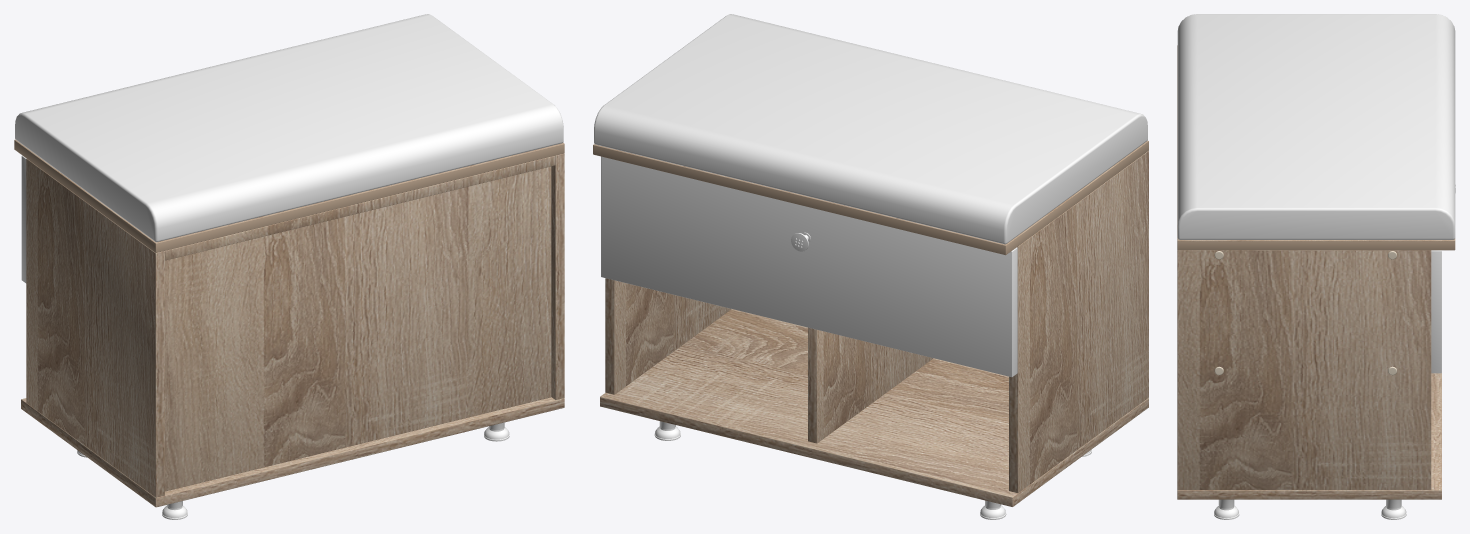
File: tumba_room.glb
3 renders of one model, left to right at view 1: azimuth 30°, elevation 25°; view 2: azimuth 150°, elevation 25°; view 3: azimuth 270°, elevation 25°, orthographic. The views are drawn at different scales.
Visible parts, largest first — view 1: 1_sonoma.1_0, puf_1, 15_sonoma.1_0, 14_sonoma.2_0, 16_sonoma_0, 12_sonoma.1_0, 13_sonoma.3_0, 9_white_0; view 2: puf_1, 9_white_0, 14_sonoma.2_0, 15_sonoma.1_0, 13_sonoma.3_0, 8_sonoma.7_0, 16_sonoma_0; view 3: puf_1, 13_sonoma.3_0, 14_sonoma.2_0, 16_sonoma_0, 9_white_0, leg_1, leg.
Part boxes in pixels (left/top/right/bottom): 1_sonoma.1_0: left=165, top=166, right=551, bottom=491; puf_1: left=15, top=14, right=563, bottom=242; 15_sonoma.1_0: left=26, top=158, right=164, bottom=497; 14_sonoma.2_0: left=21, top=397, right=564, bottom=507; 16_sonoma_0: left=14, top=139, right=564, bottom=252; 12_sonoma.1_0: left=165, top=156, right=555, bottom=260; 13_sonoma.3_0: left=551, top=153, right=564, bottom=399; 9_white_0: left=21, top=155, right=26, bottom=283; puf_1: left=594, top=14, right=1147, bottom=244; 9_white_0: left=601, top=156, right=1017, bottom=377; 14_sonoma.2_0: left=600, top=309, right=1148, bottom=506; 15_sonoma.1_0: left=1009, top=151, right=1148, bottom=493; 13_sonoma.3_0: left=605, top=278, right=731, bottom=394; 8_sonoma.7_0: left=808, top=327, right=933, bottom=443; 16_sonoma_0: left=593, top=140, right=1148, bottom=255; puf_1: left=1177, top=14, right=1455, bottom=239; 13_sonoma.3_0: left=1177, top=250, right=1431, bottom=489; 14_sonoma.2_0: left=1177, top=373, right=1441, bottom=499; 16_sonoma_0: left=1177, top=45, right=1455, bottom=250; 9_white_0: left=1431, top=250, right=1441, bottom=373; leg_1: left=1214, top=499, right=1239, bottom=519; leg: left=1381, top=499, right=1406, bottom=519.
Bounding box in the file's own units: 70.17 × 54.44 × 42.05.
Materials: 9 (5 with a texture image).
